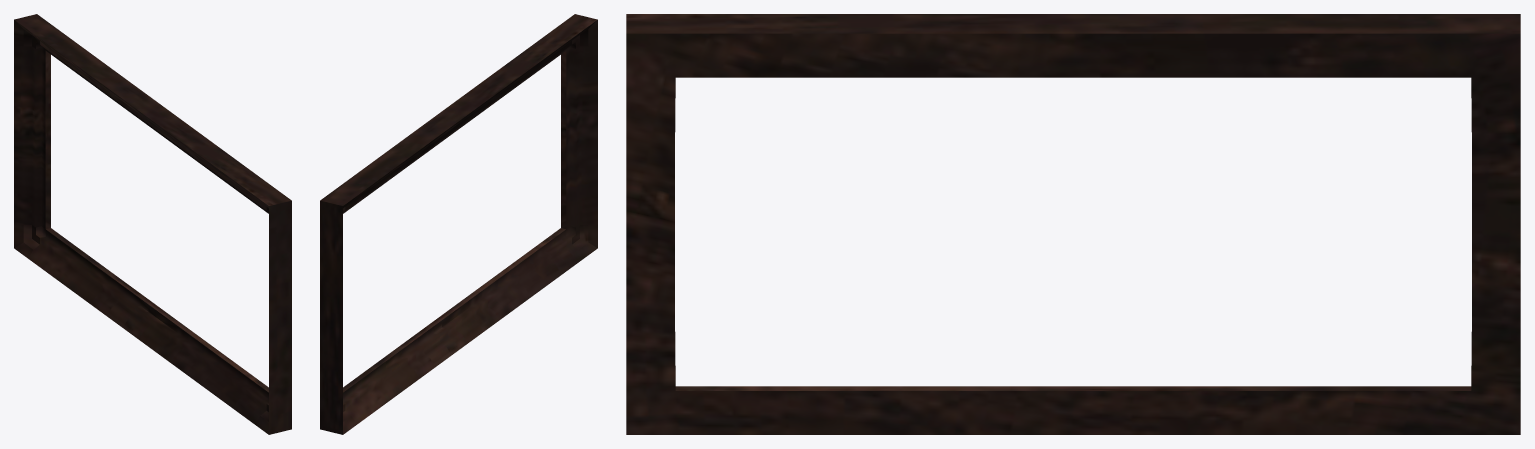
Rendered from NEW_FRAME_3dModel.fbx.
3 views of the same model, side by side, from view 1: azimuth 30°, elevation 25°; view 2: azimuth 150°, elevation 25°; view 3: azimuth 270°, elevation 25° (orthographic). The views are drawn at different scales.
Parts seen in each view (by area): view 1: pCube3; view 2: pCube3; view 3: pCube3.
Part boxes in pixels (x1=…): pCube3: x1=14, y1=14, x2=291, y2=434; pCube3: x1=320, y1=14, x2=597, y2=434; pCube3: x1=626, y1=14, x2=1520, y2=434.
Bounding box in the file's own units: 0.7337 × 7 × 14.13.
Materials: 1 (1 with a texture image).
